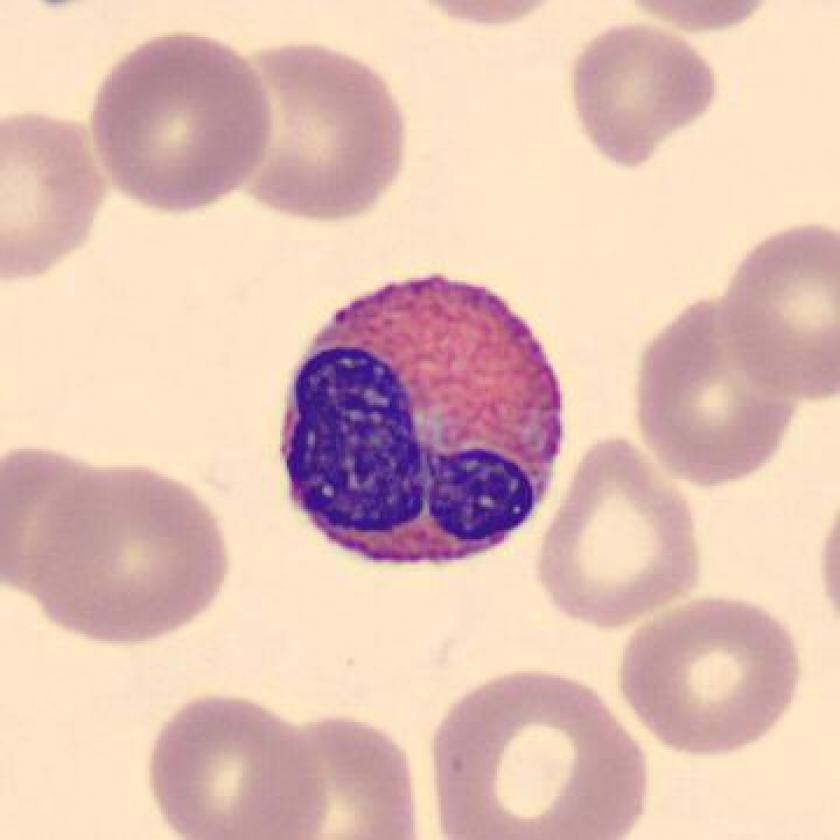eosinophil: (265, 265, 580, 584)
